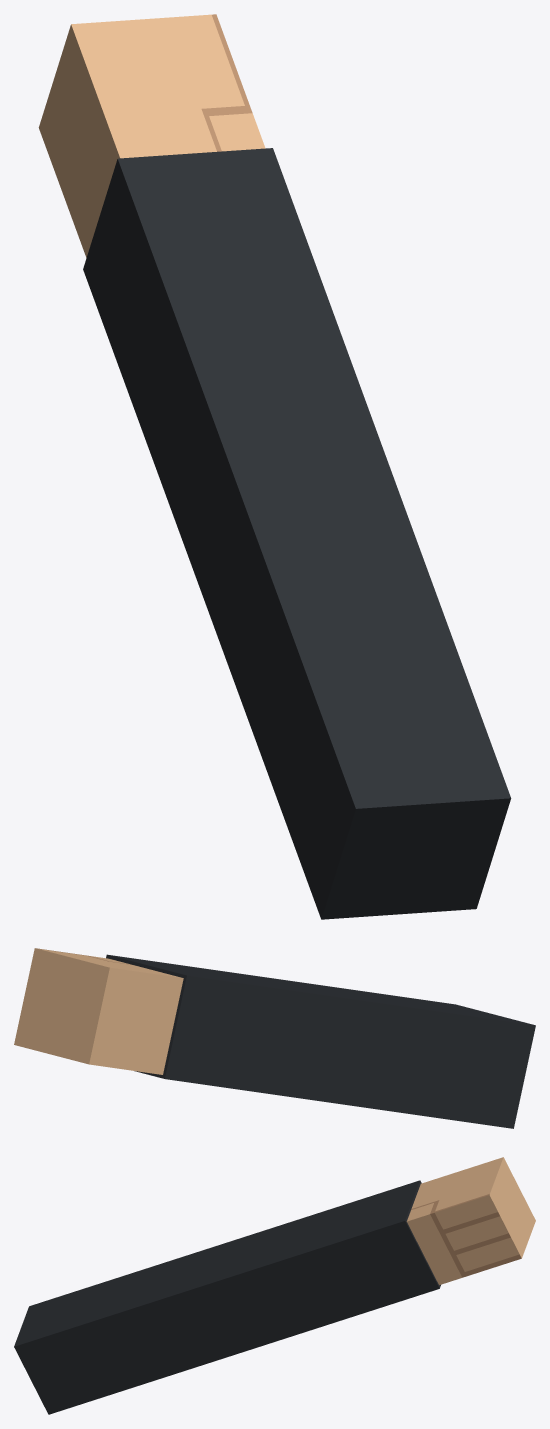
The model's file is lefthand.fbx.
The picture shows the model from 3 angles, top to bottom: view 1: azimuth 30°, elevation 25°; view 2: azimuth 150°, elevation 25°; view 3: azimuth 270°, elevation 25°; orthographic projection. The views are drawn at different scales.
Visible parts, largest first — view 1: Cube; view 2: Cube; view 3: Cube.
Boxes of the visible parts, x1=… form: Cube: x1=38, y1=14, x2=511, y2=919; Cube: x1=14, y1=948, x2=535, y2=1128; Cube: x1=14, y1=1157, x2=535, y2=1414.
Size of the model in its own units: 86.26 by 139 by 243.
